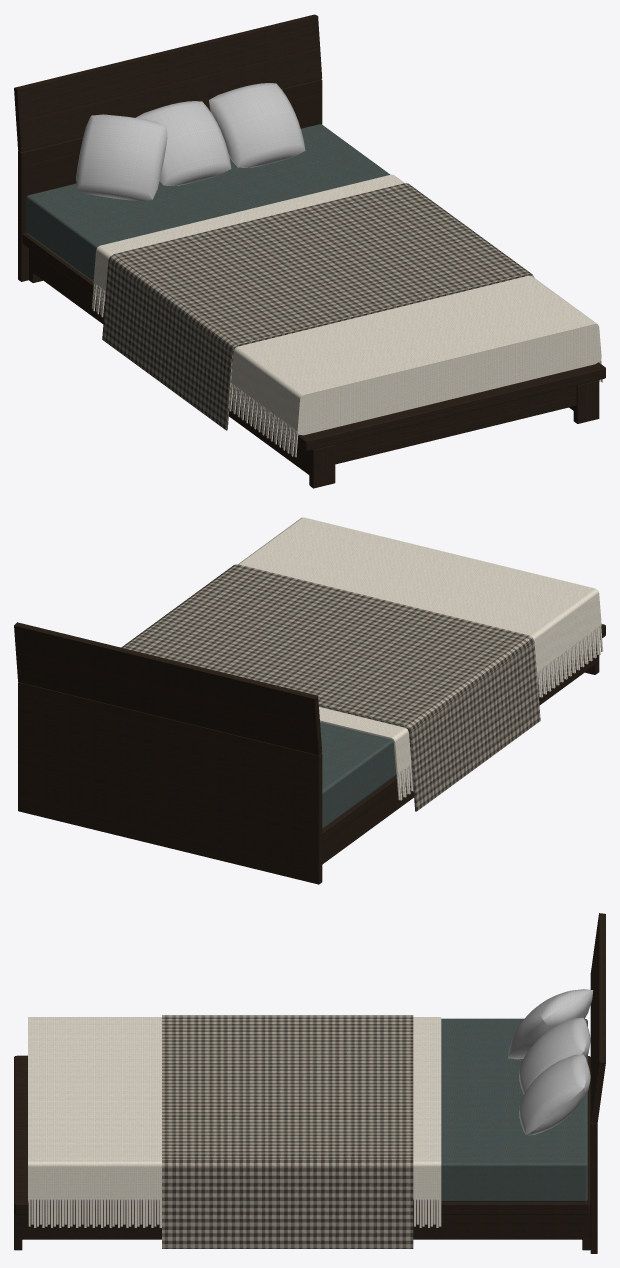
3 views of the same model, one above another, from view 1: azimuth 30°, elevation 25°; view 2: azimuth 150°, elevation 25°; view 3: azimuth 270°, elevation 25° (orthographic).
Parts seen in each view (by area): view 1: EditableMesh; view 2: EditableMesh; view 3: EditableMesh.
Part boxes in pixels (x1=…): EditableMesh: x1=14, y1=14, x2=605, y2=488; EditableMesh: x1=14, y1=517, x2=605, y2=884; EditableMesh: x1=14, y1=913, x2=605, y2=1253.
Bounding box in the file's own units: 1.27 × 0.7347 × 2.05.
5 materials, 5 textured.
